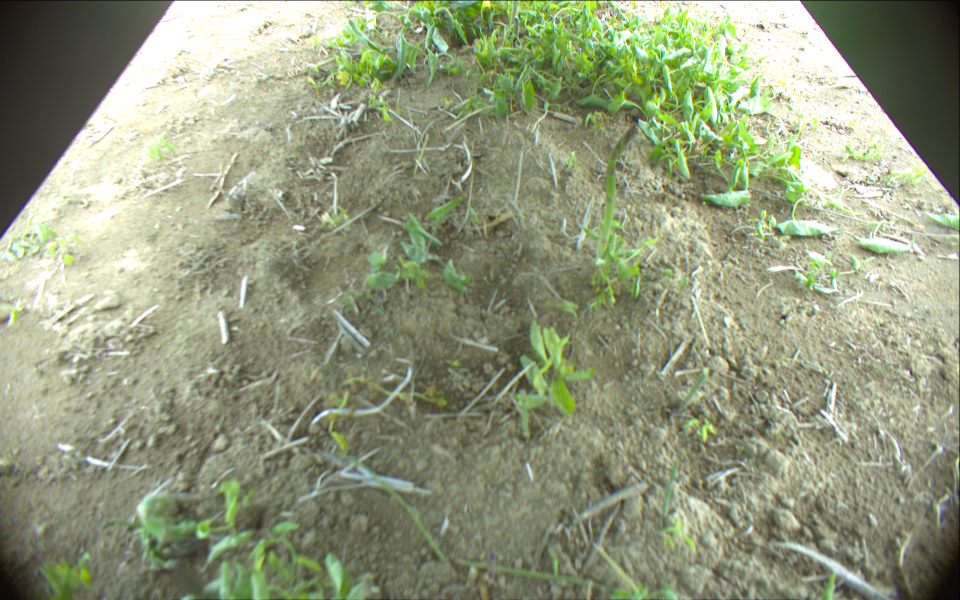aspa: (595, 124, 640, 259), (512, 14, 520, 40)
